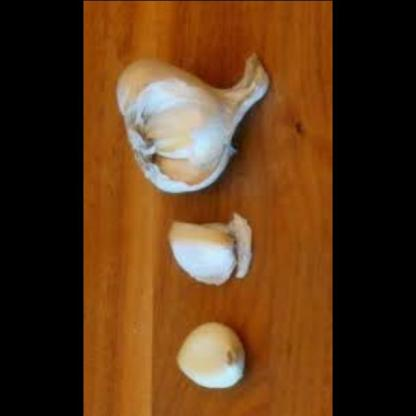garlic: (114, 50, 272, 194), (174, 319, 252, 394), (163, 214, 241, 288)
